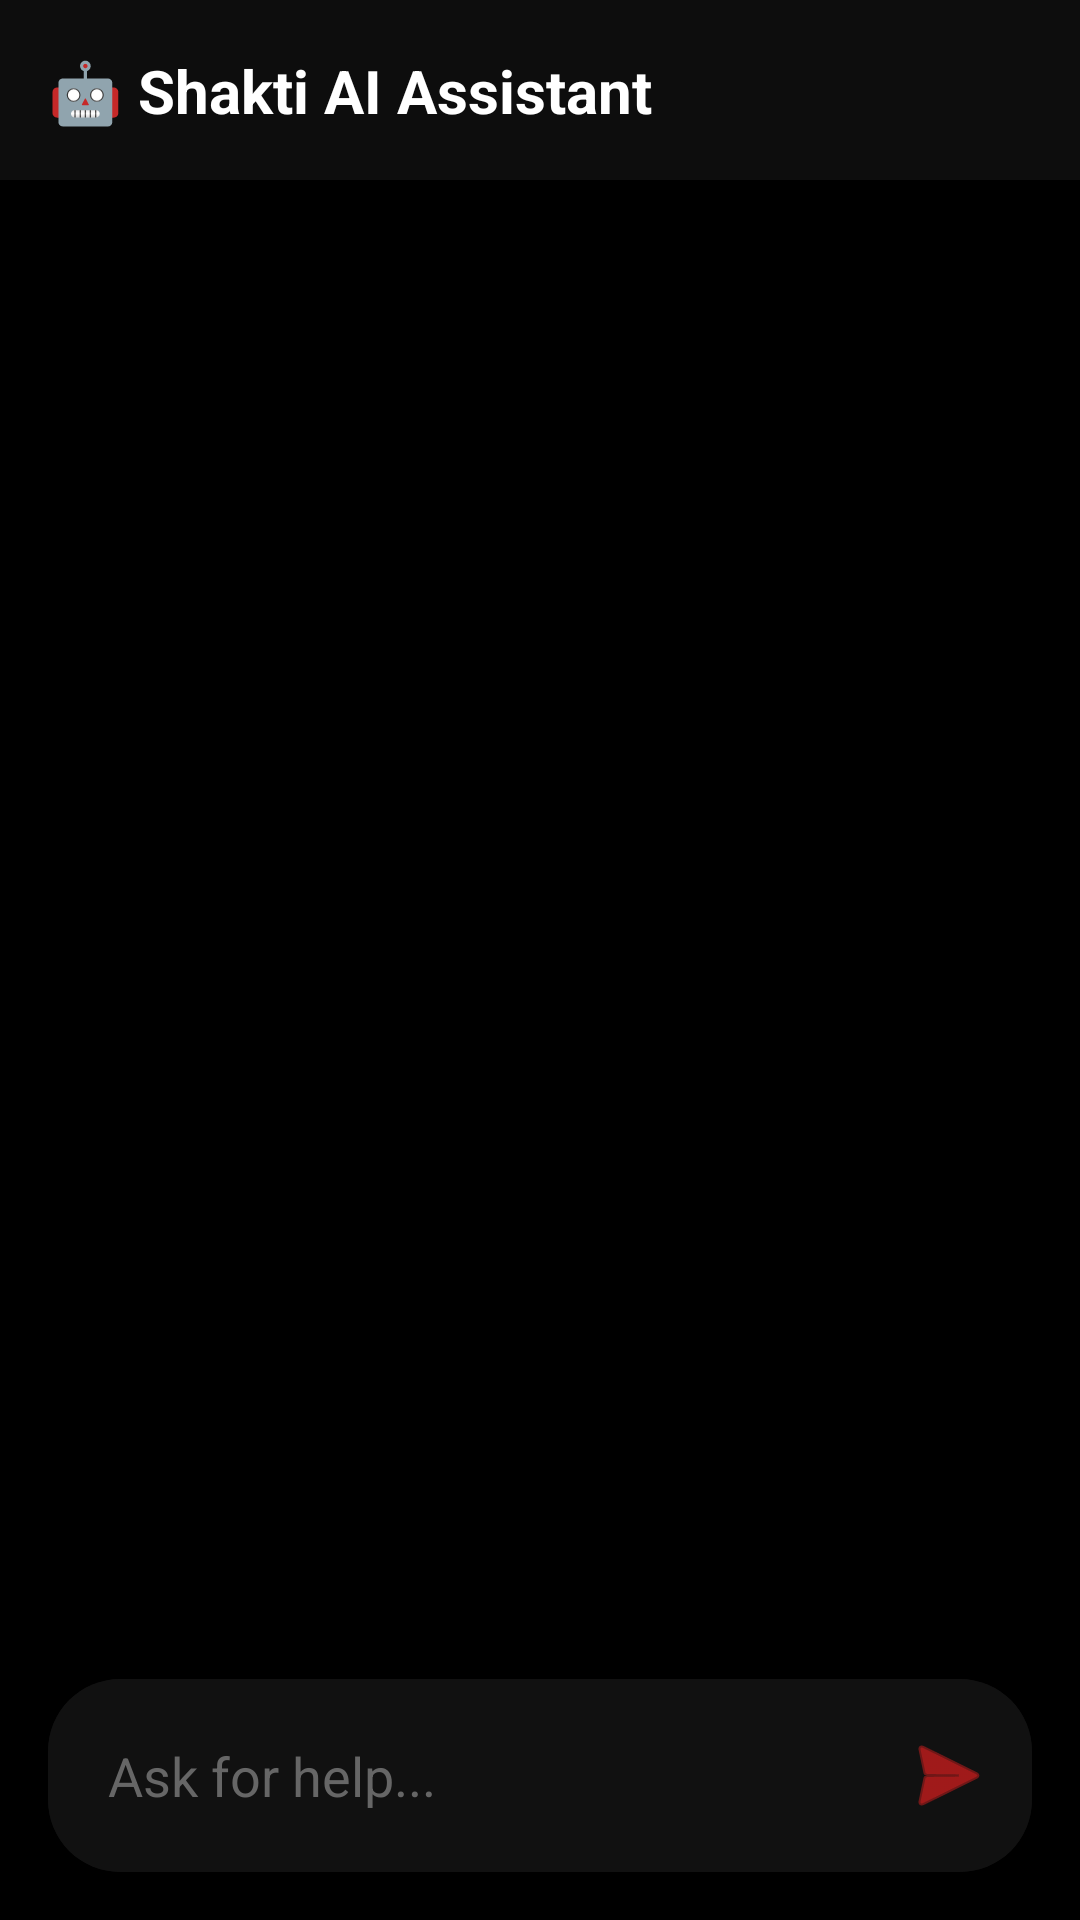

Locate icon controls on the screen. Image size 1080px x 1920px, boxes as (x1, y1, x2, y2).
Send: (918, 1745, 980, 1806)
